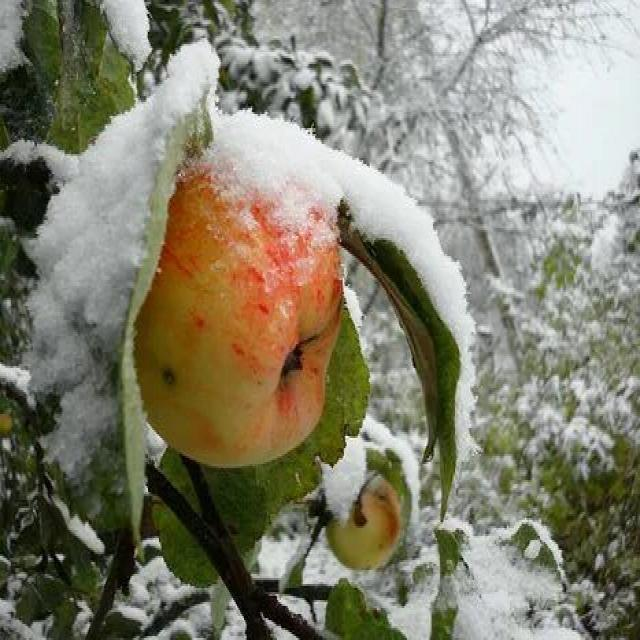Fresh Apple: (138, 200, 345, 458)
